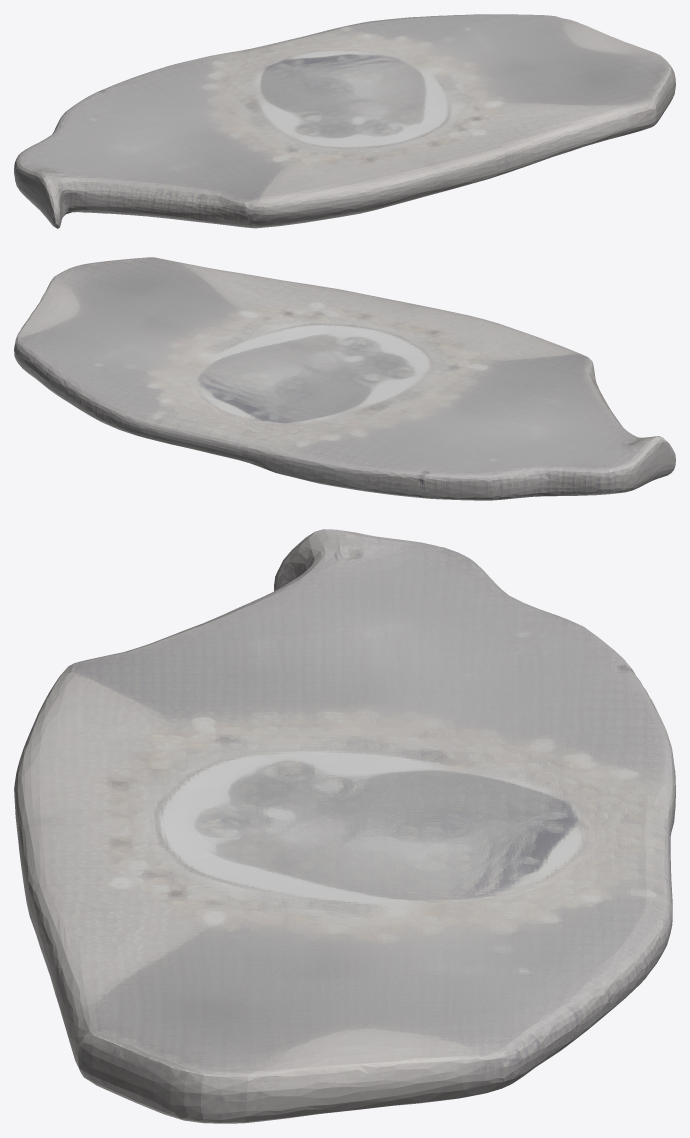
Rendered from 3D-demo-5.glb.
3 views of the same model, one above another, from view 1: azimuth 30°, elevation 25°; view 2: azimuth 150°, elevation 25°; view 3: azimuth 270°, elevation 25° (orthographic). The views are drawn at different scales.
Visible parts, largest first — view 1: world; view 2: world; view 3: world.
Part boxes in pixels (x1,y1,x2,y2): world: (14,14,675,228); world: (14,257,675,500); world: (14,529,675,1123).
Size of the model in its own units: 0.9991 by 0.0715 by 0.5183.
1 material, 1 textured.
